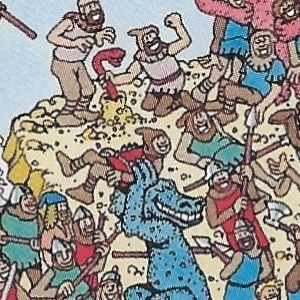Charlie: (142, 130, 158, 170)
